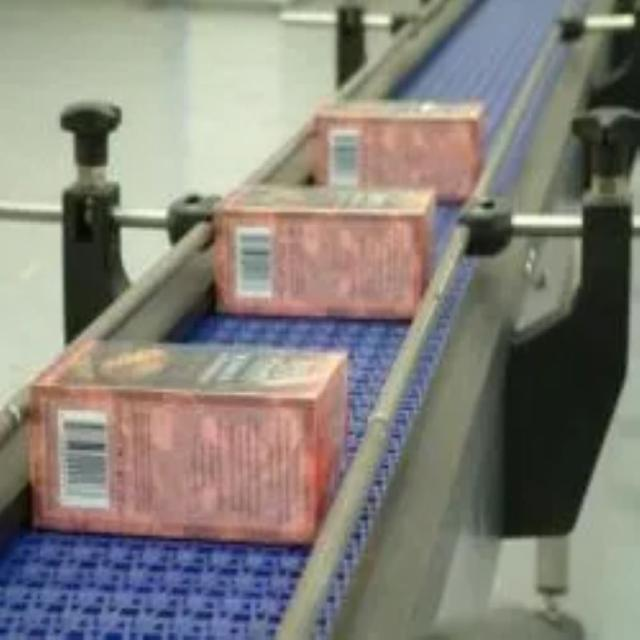food: (26, 336, 349, 547), (206, 178, 431, 332)
